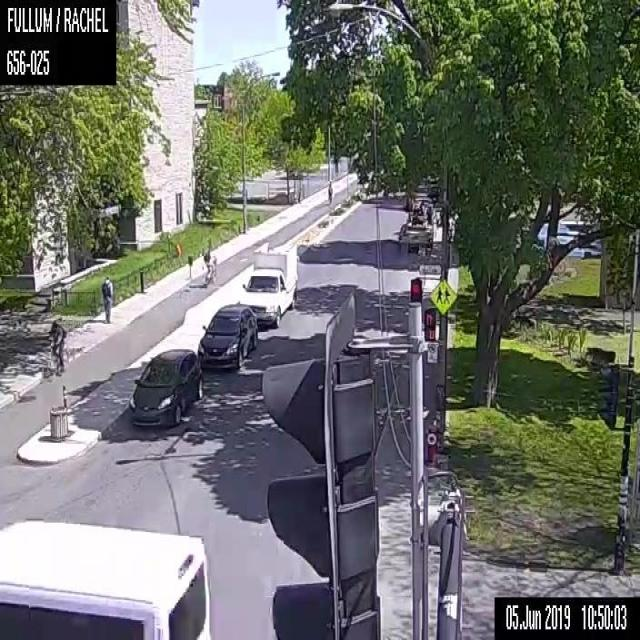cyclist: (47, 317, 68, 375), (202, 238, 216, 286)
pedestrian: (101, 276, 112, 321), (327, 180, 332, 203)
vehicle: (0, 518, 211, 638), (128, 348, 203, 426), (239, 241, 298, 327), (197, 303, 257, 370), (398, 220, 432, 245), (408, 200, 432, 222)
